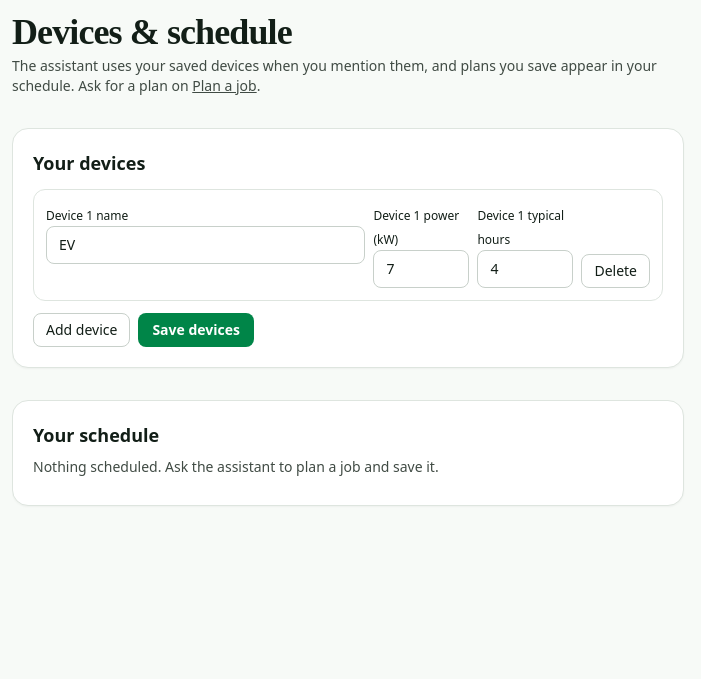
Scenario: Devices & schedule (/account) › shows devices and the schedule; adds a device and saves only devices
Expected: the field labelled "Device 1 name" holds "EV", left=46, top=226, right=365, bottom=264
Expected: the heading "Your schedule" is shown, left=33, top=423, right=159, bottom=447
Click the button "Add device" at (82, 330), box left=33, top=313, right=130, bottom=347
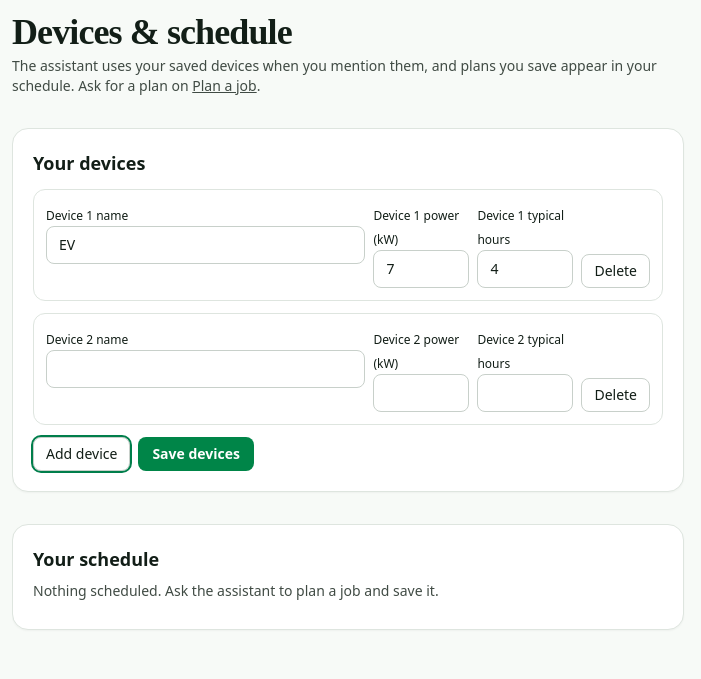
Type "Dishwasher" into the field labelled "Device 2 name" at (206, 369), box left=46, top=350, right=365, bottom=388
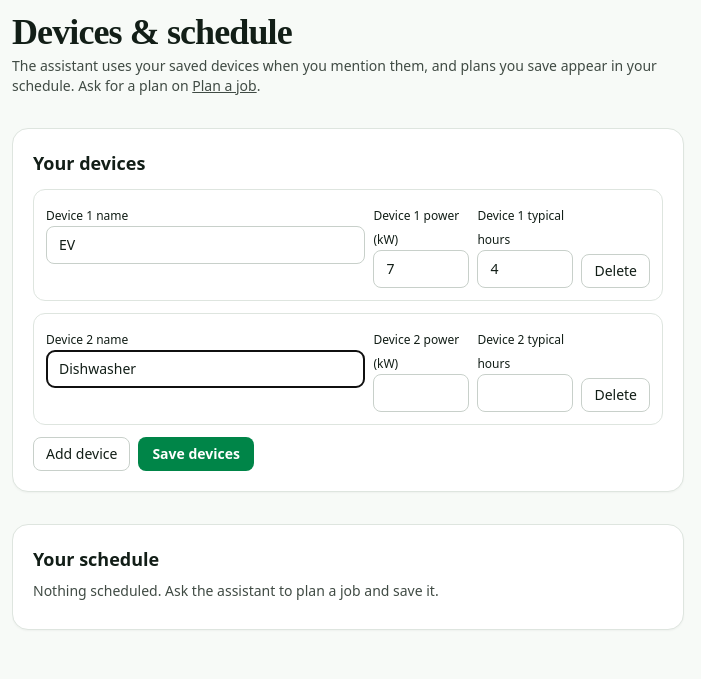
Type "1.2" into the field labelled "Device 2 power (kW)" at (421, 393), box left=373, top=374, right=469, bottom=412
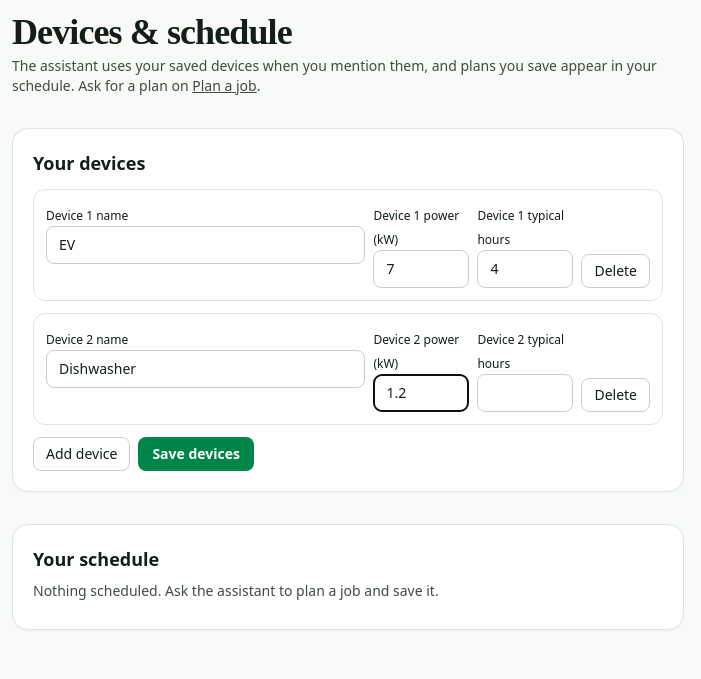
Type "2" into the field labelled "Device 2 typical hours" at (525, 393), box left=477, top=374, right=573, bottom=412
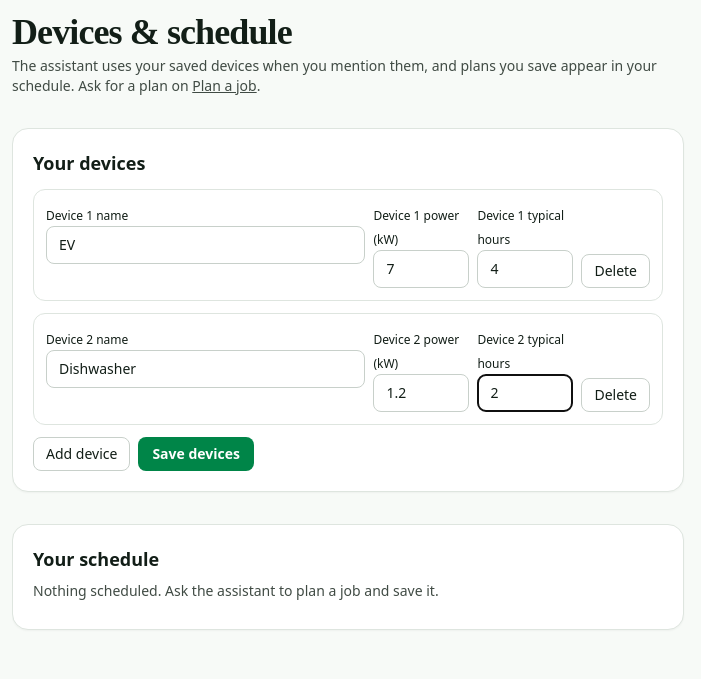
Click the button "Save devices" at (196, 454), box left=138, top=437, right=254, bottom=471
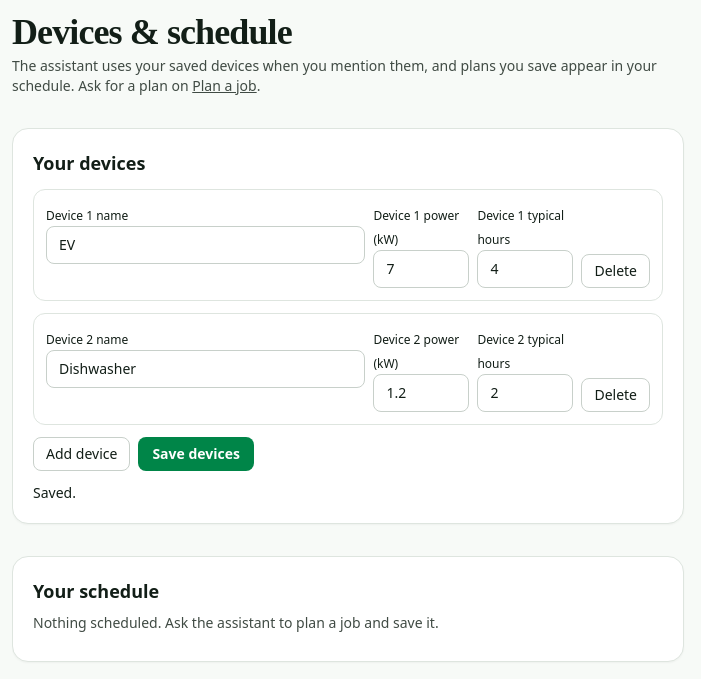
Expected: the text "Saved." is shown, left=33, top=483, right=76, bottom=502
